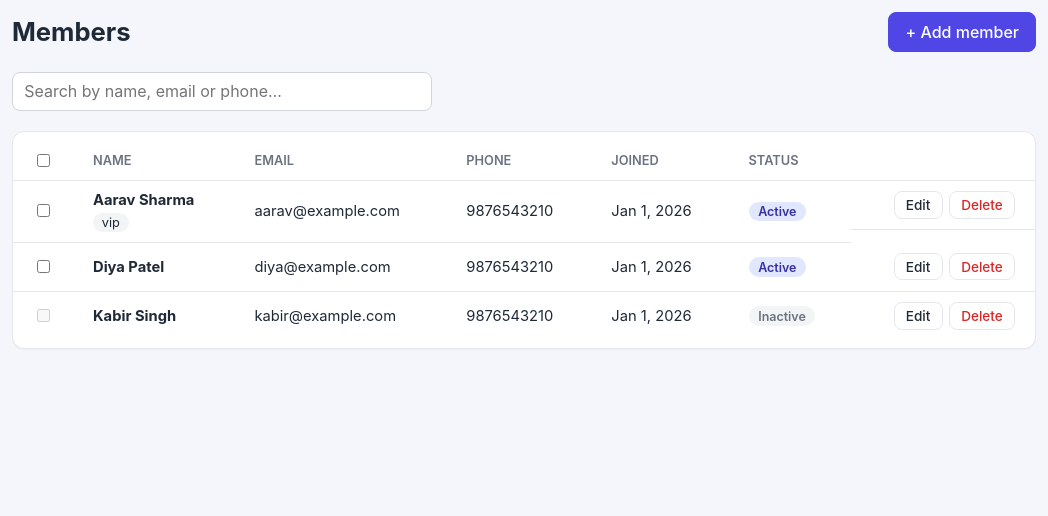
Test case: MembersPage › shows error alert when bulk tag update API fails
Expected: the text "Aarav Sharma" is shown, [93,191,194,209]
Click the checkbox named "Select Aarav Sharma".
click(44, 211)  # box [37,204,50,218]
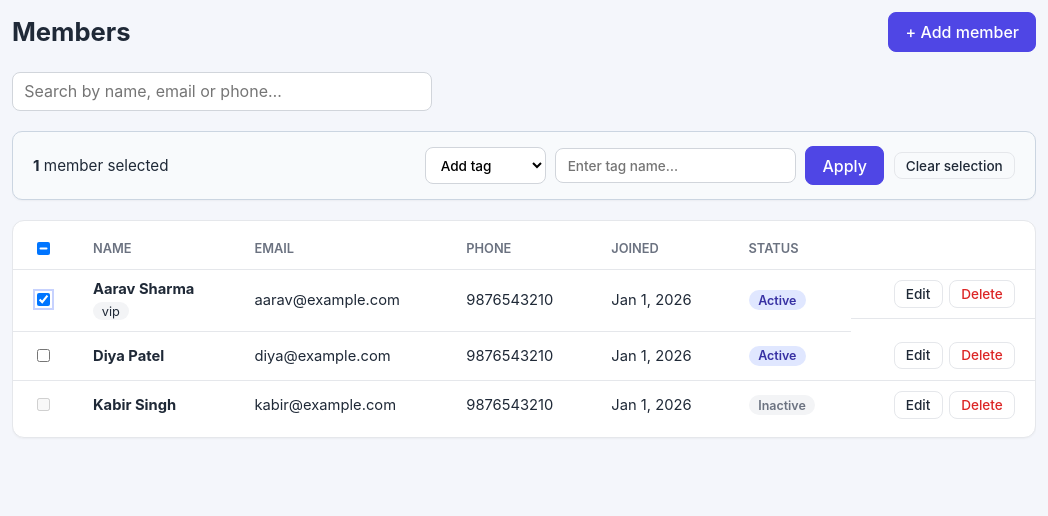
Type "vip" into the field labelled "tag name".
click(676, 166); type("vip")  # box [556,148,796,183]
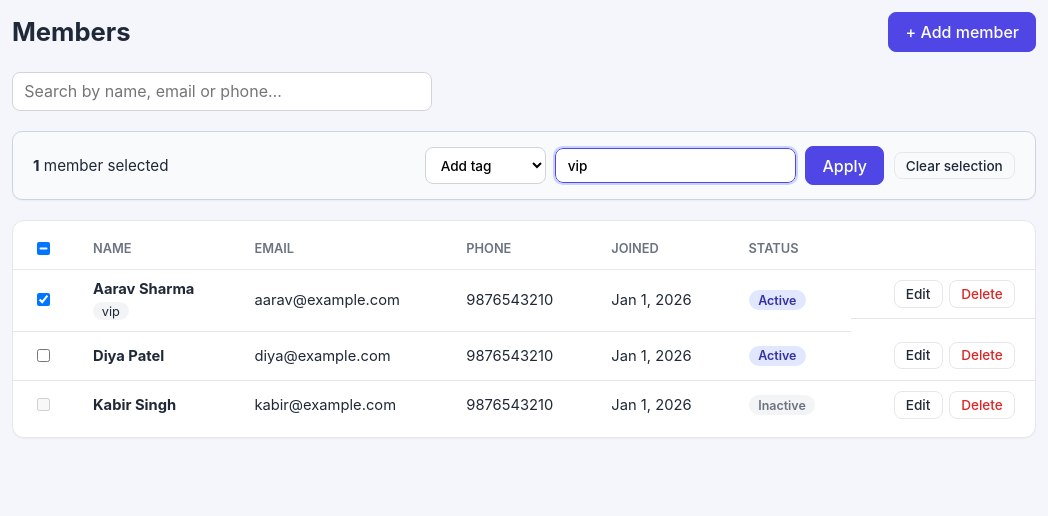
Click the button "Apply".
click(845, 166)  # box [805,146,884,185]
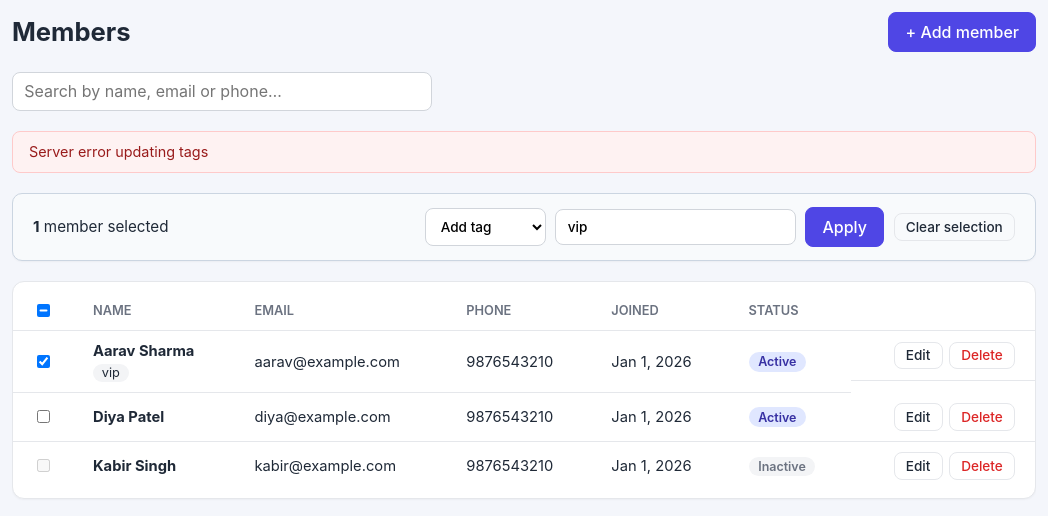
Expected: the message reads "Server error updating tags", [29,143,208,160]
